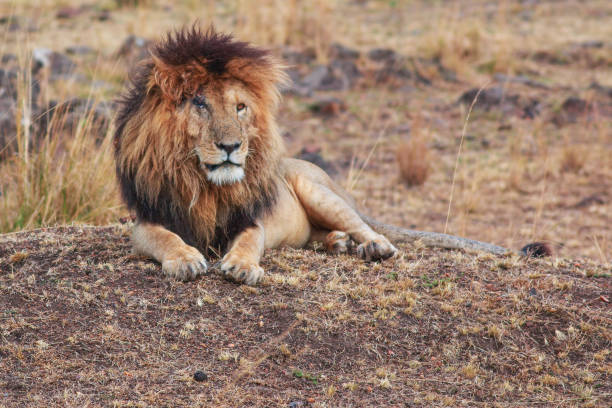lion: (100, 8, 294, 249)
